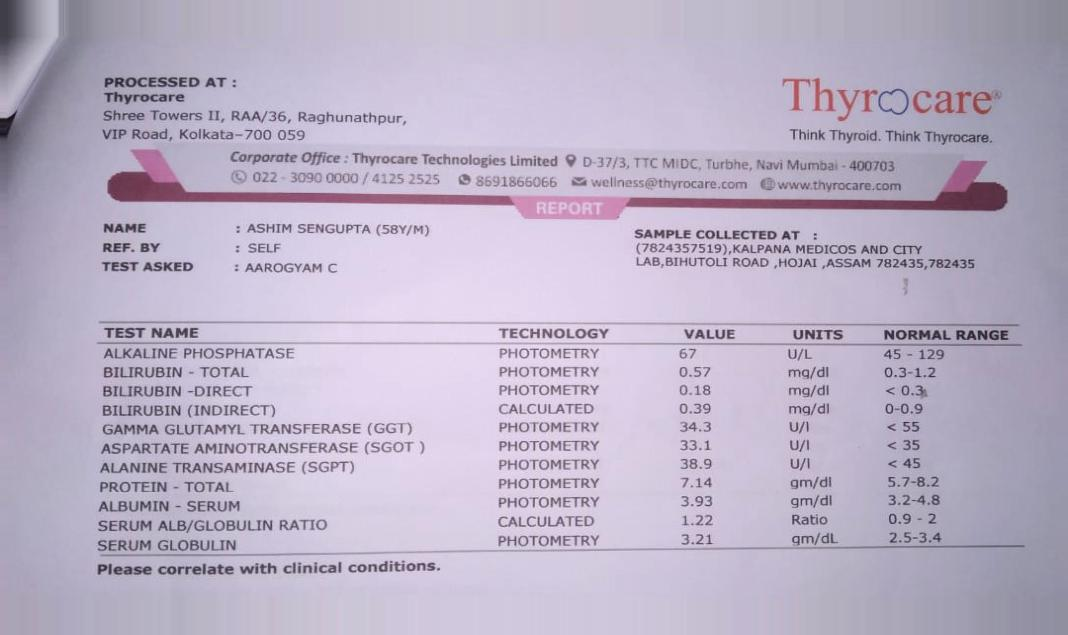Reference Range: (876, 343, 952, 550)
Test Name: (88, 339, 429, 556)
Units: (778, 342, 848, 550)
Value: (671, 342, 725, 551)
